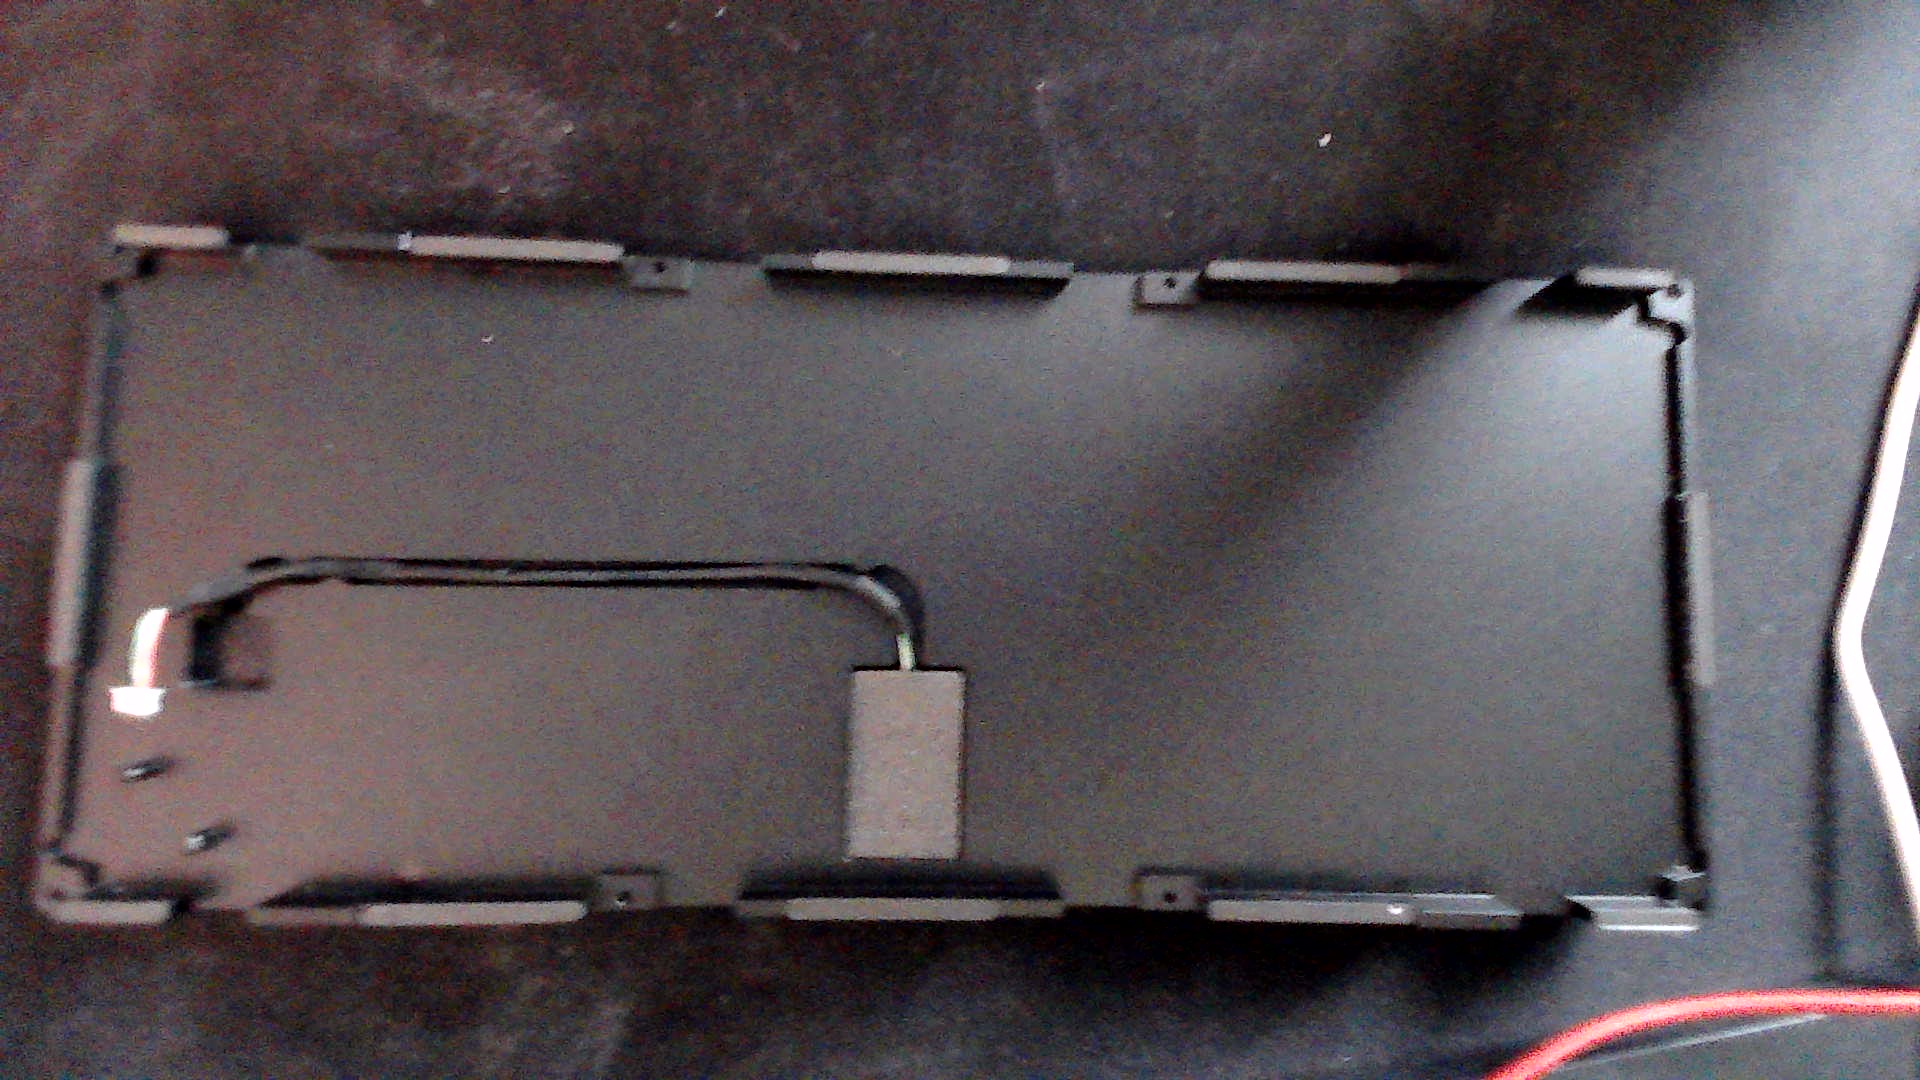case: (17, 181, 1754, 963)
